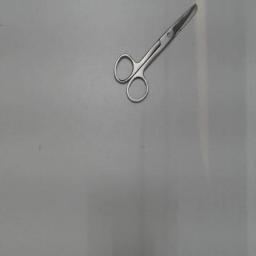Dressing Scissors: (110, 0, 202, 110)
